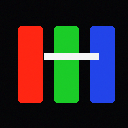3 line_h: (44, 53, 98, 59)
